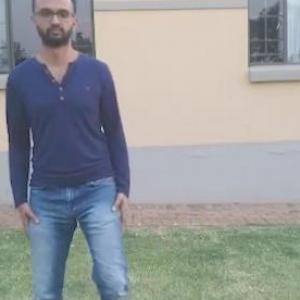follow: (3, 0, 121, 299)
